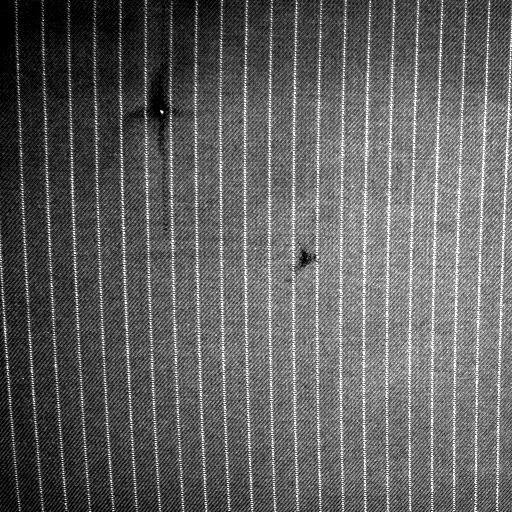fabric_hole: (147, 93, 179, 135), (291, 240, 319, 284)
